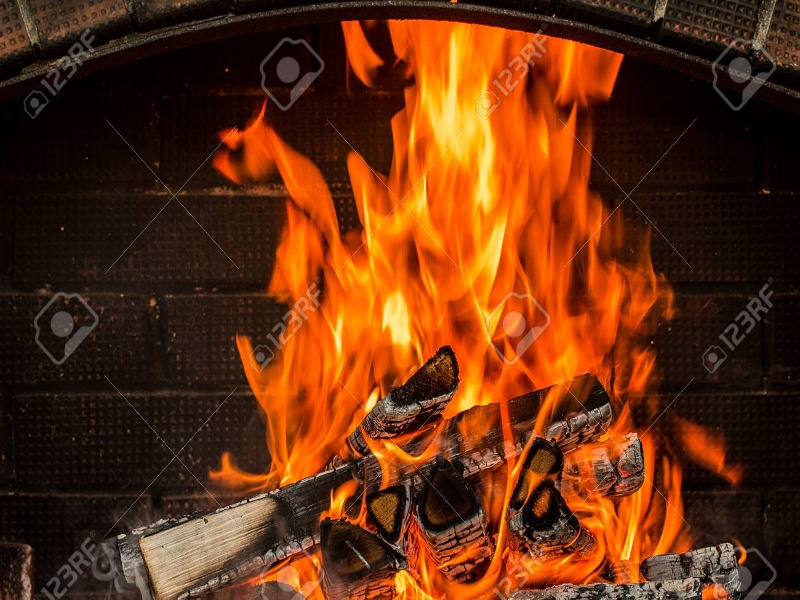fire: (207, 16, 742, 558), (356, 566, 647, 594), (241, 555, 329, 600)
